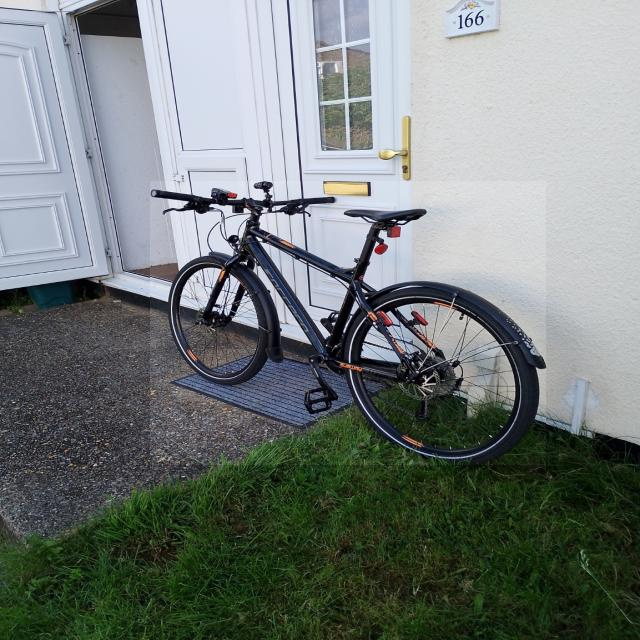bicycle: (150, 182, 546, 466)
